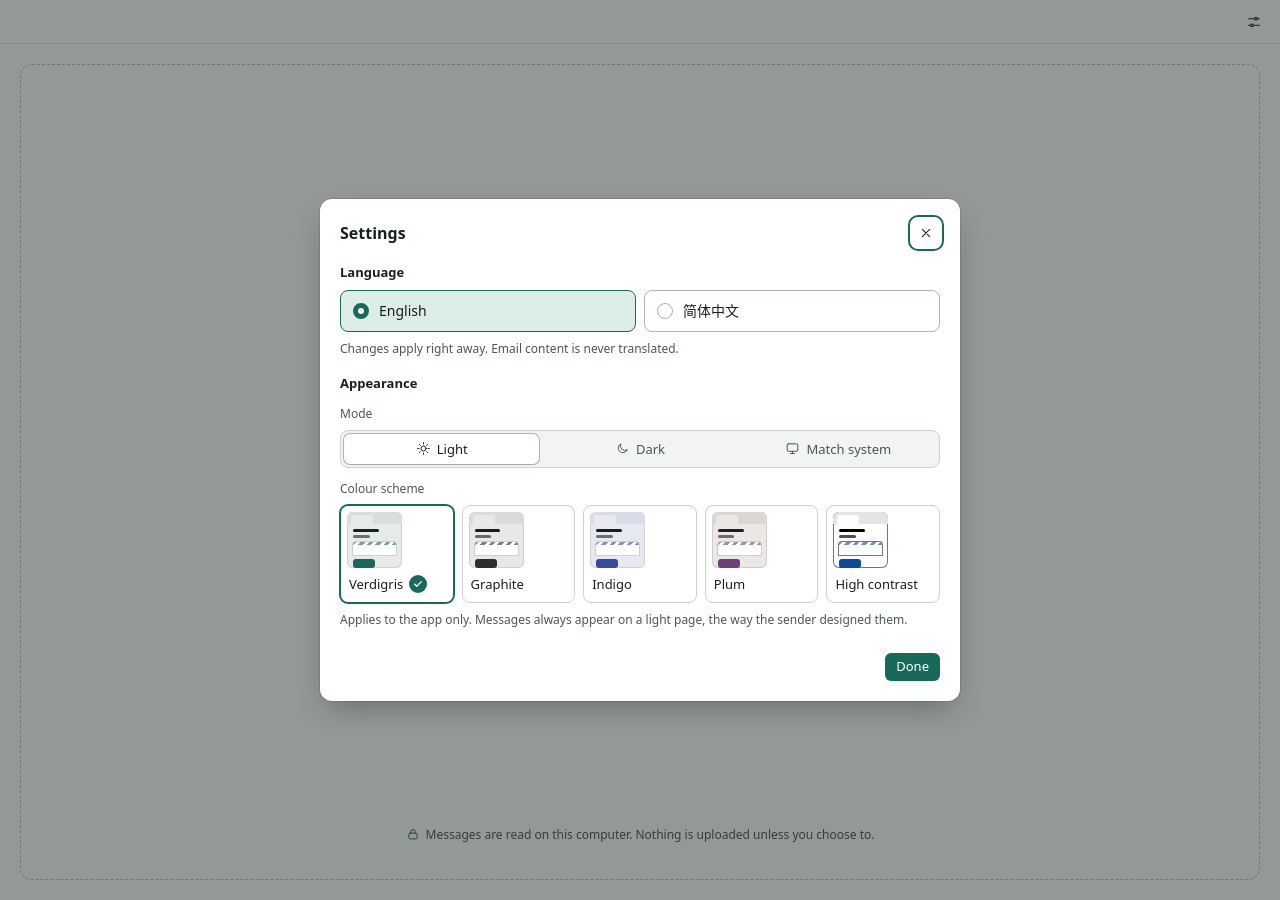
7.10 菜单“设置…”（efv://open-settings） › 打开设置对话框；对话框已经打开时再选一次，仍然只有一个
The width and height of the screenshot is (1280, 900).
Expected: the number of dialogs is 1, [320, 199, 960, 701]
Click the button "Done": (913, 667) [885, 653, 940, 681]
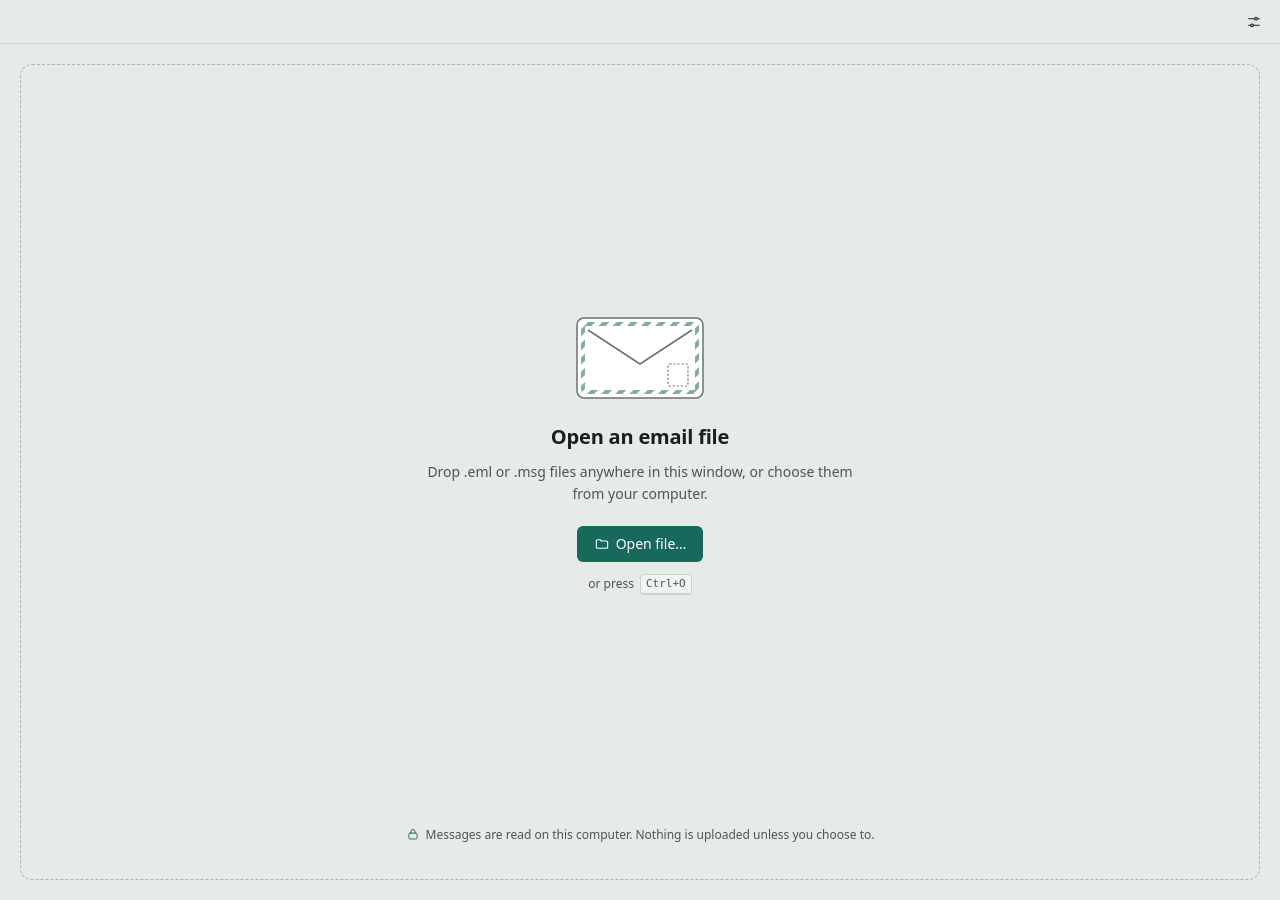
Result: the dialog is gone
